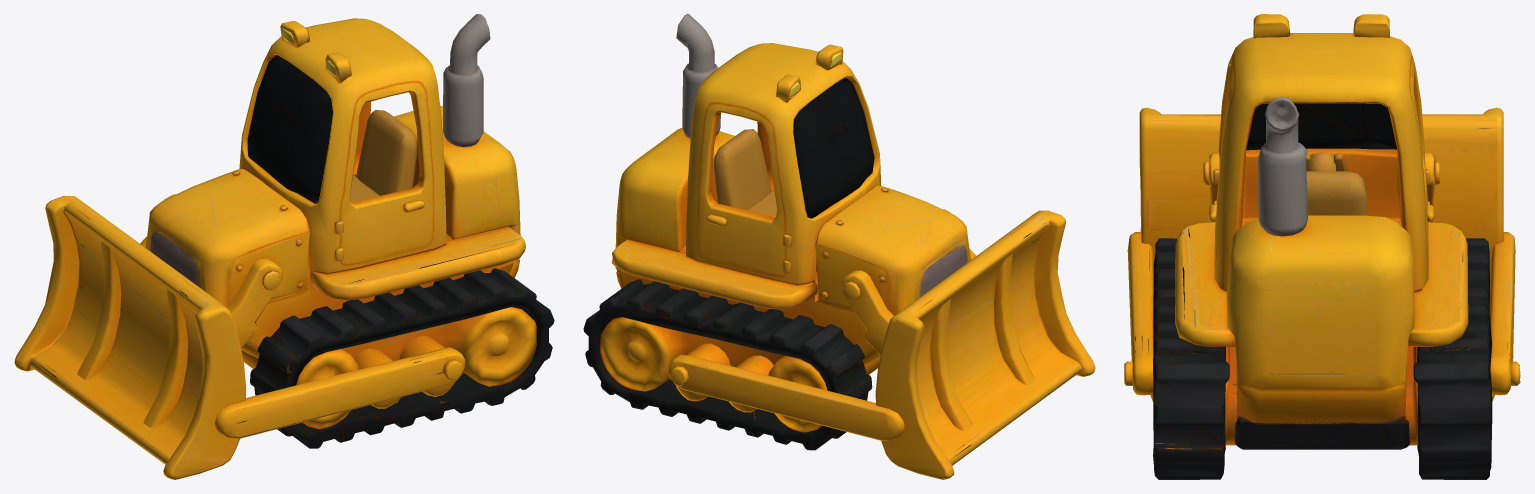
File: bulldozer.glb
3 renders of one model, left to right at view 1: azimuth 30°, elevation 25°; view 2: azimuth 150°, elevation 25°; view 3: azimuth 270°, elevation 25°, orthographic. The views are drawn at different scales.
Visible parts, largest first — view 1: geometry_0; view 2: geometry_0; view 3: geometry_0.
Part boxes in pixels (x1,y1,x2,y2): geometry_0: (14, 14, 554, 479); geometry_0: (583, 14, 1095, 479); geometry_0: (1124, 14, 1520, 479).
Bounding box in the file's own units: 0.9541 × 0.7778 × 0.7036.
Materials: 1 (1 with a texture image).
